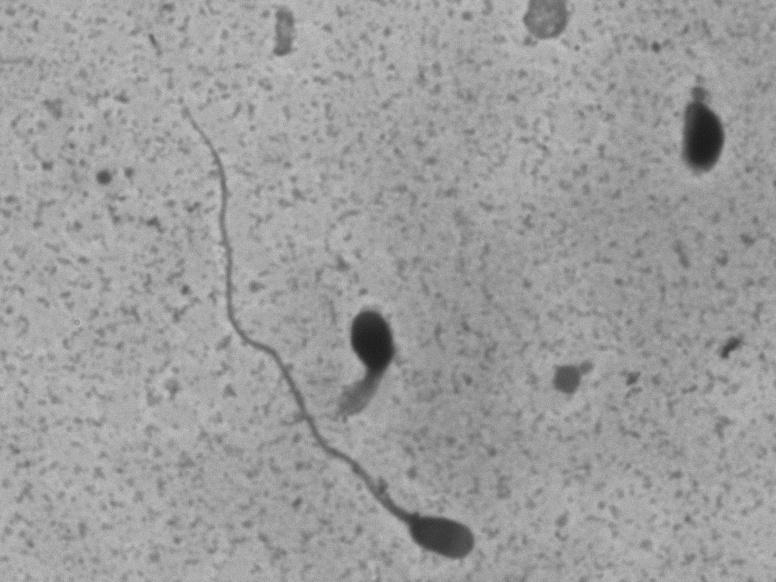Abnormal: (146, 57, 491, 571), (329, 279, 404, 438)
